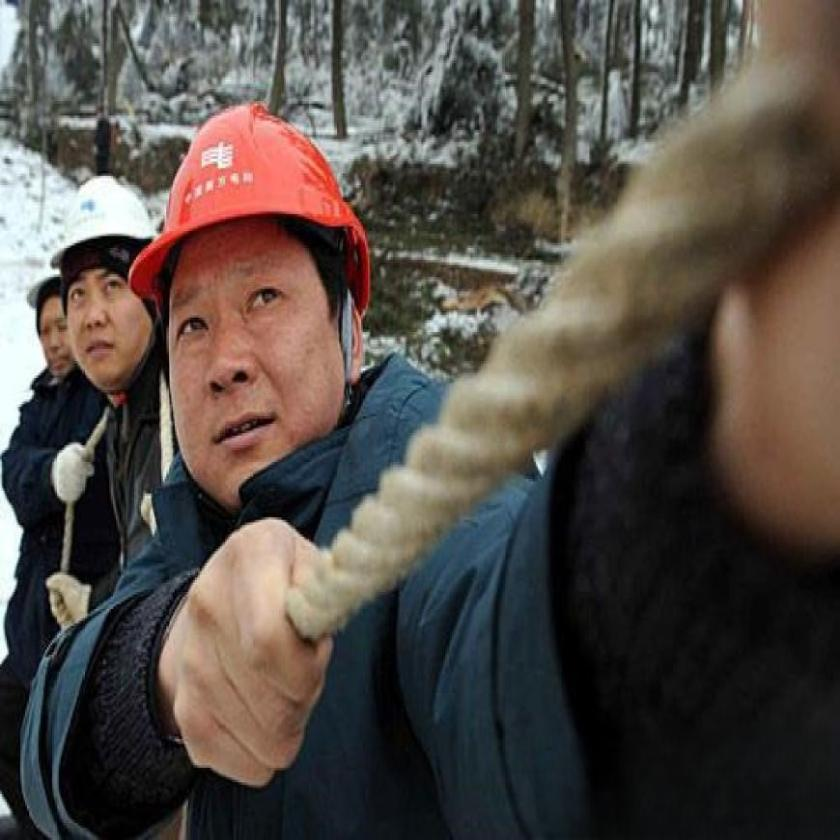Con_casco: (164, 84, 378, 515), (56, 170, 154, 402)
